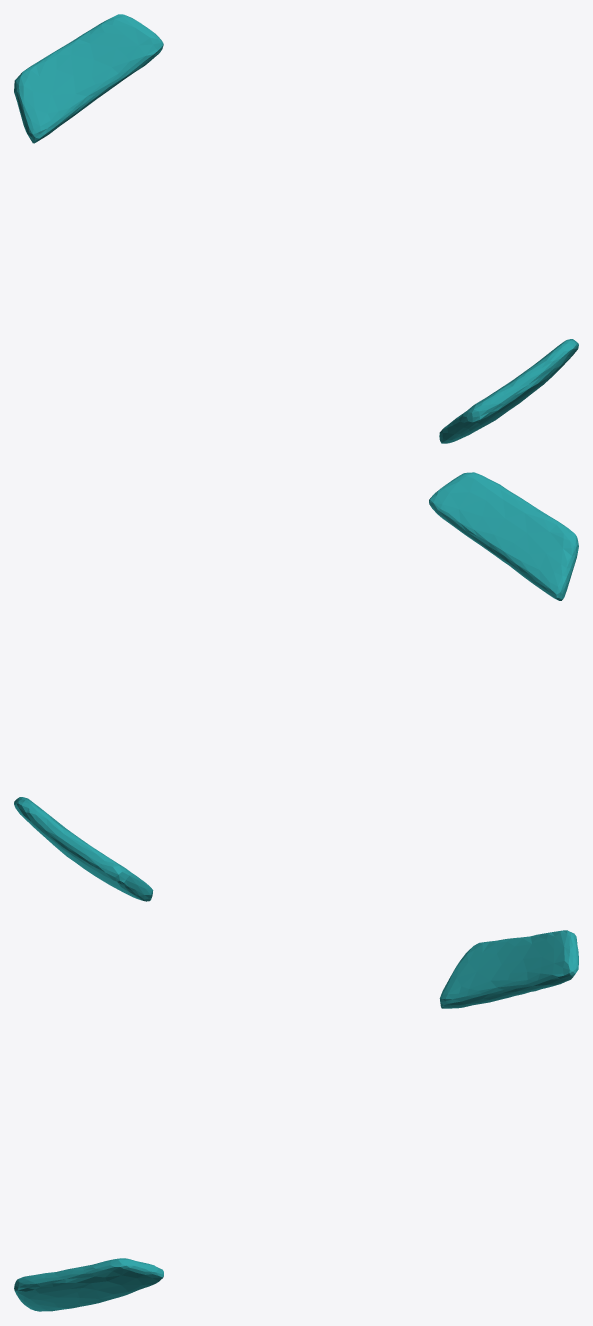
3 renders of one model, top to bottom at view 1: azimuth 30°, elevation 25°; view 2: azimuth 150°, elevation 25°; view 3: azimuth 330°, elevation 25°, orthographic.
Visible parts, largest first — view 1: 973.obj; view 2: 973.obj; view 3: 973.obj.
Boxes of the visible parts, left/top/right/bottom form: 973.obj: left=14, top=14, right=578, bottom=443; 973.obj: left=14, top=472, right=578, bottom=901; 973.obj: left=14, top=930, right=578, bottom=1311.
Bounding box in the file's own units: 1342 × 844 × 7948.
